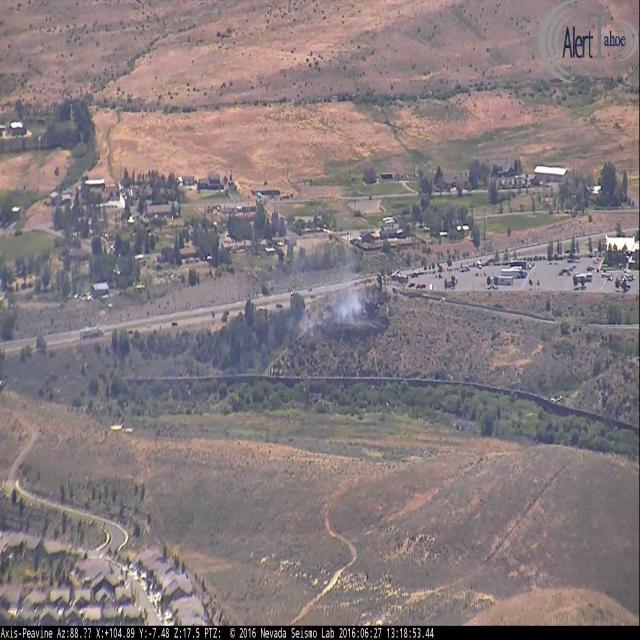smoke: (303, 250, 387, 346)
